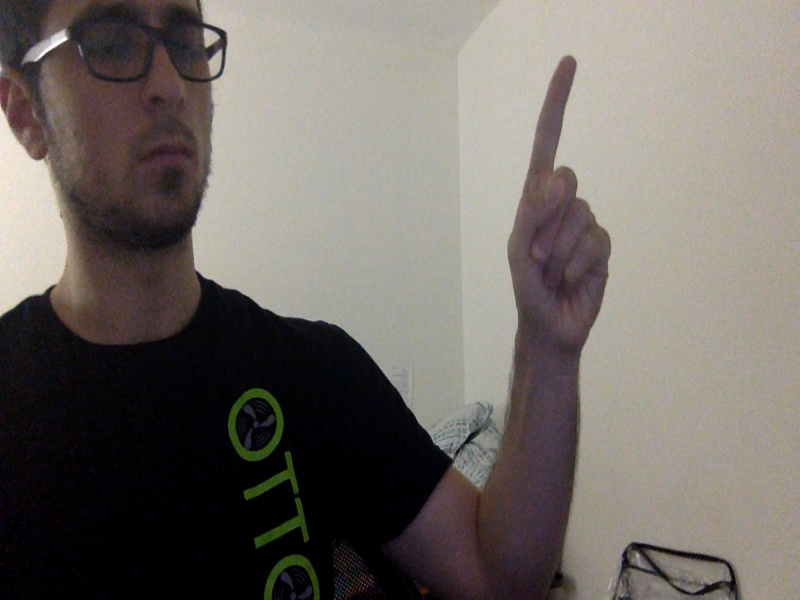1-hand: (509, 56, 613, 345)
